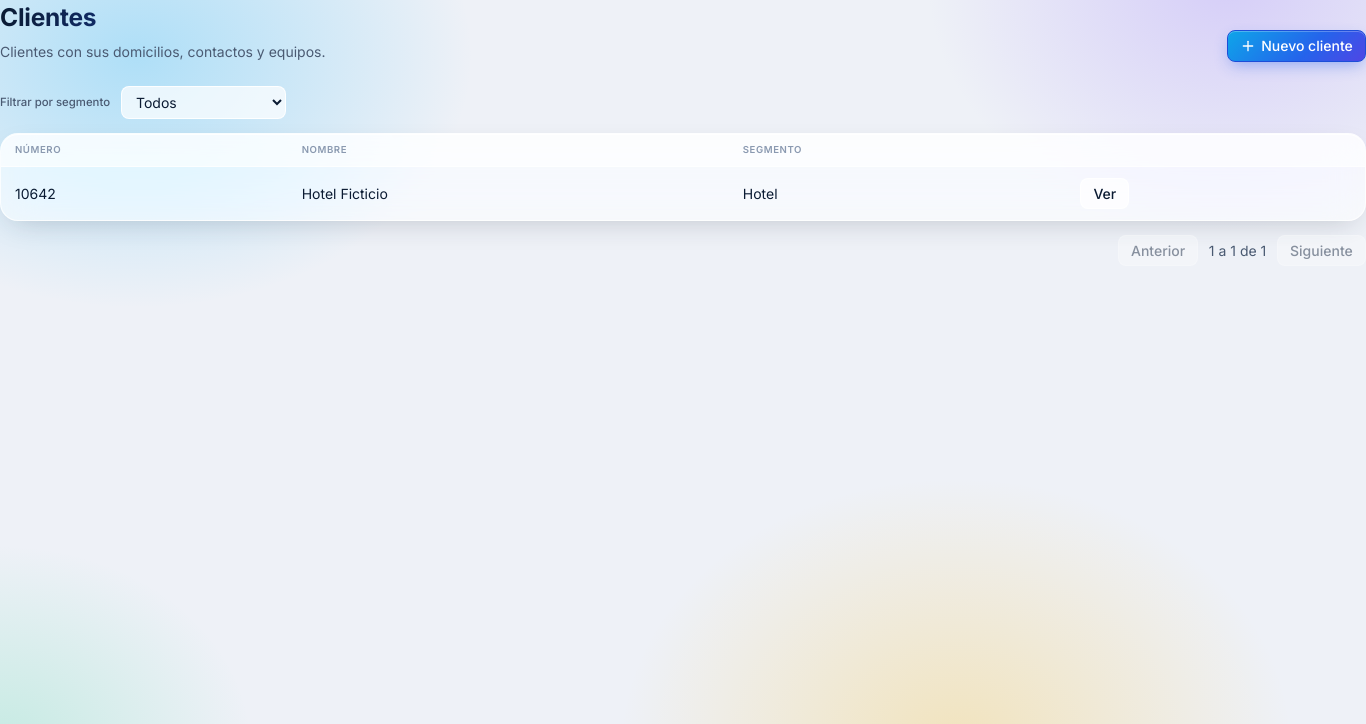
Test: ClientsPage › equipos (E03-03) › lista los equipos del cliente con ubicación, tipo, código y domicilio
Click the button with aria-label "Ver Hotel Ficticio" at (1105,194), box [1080,178,1130,209]
(page scrolled)
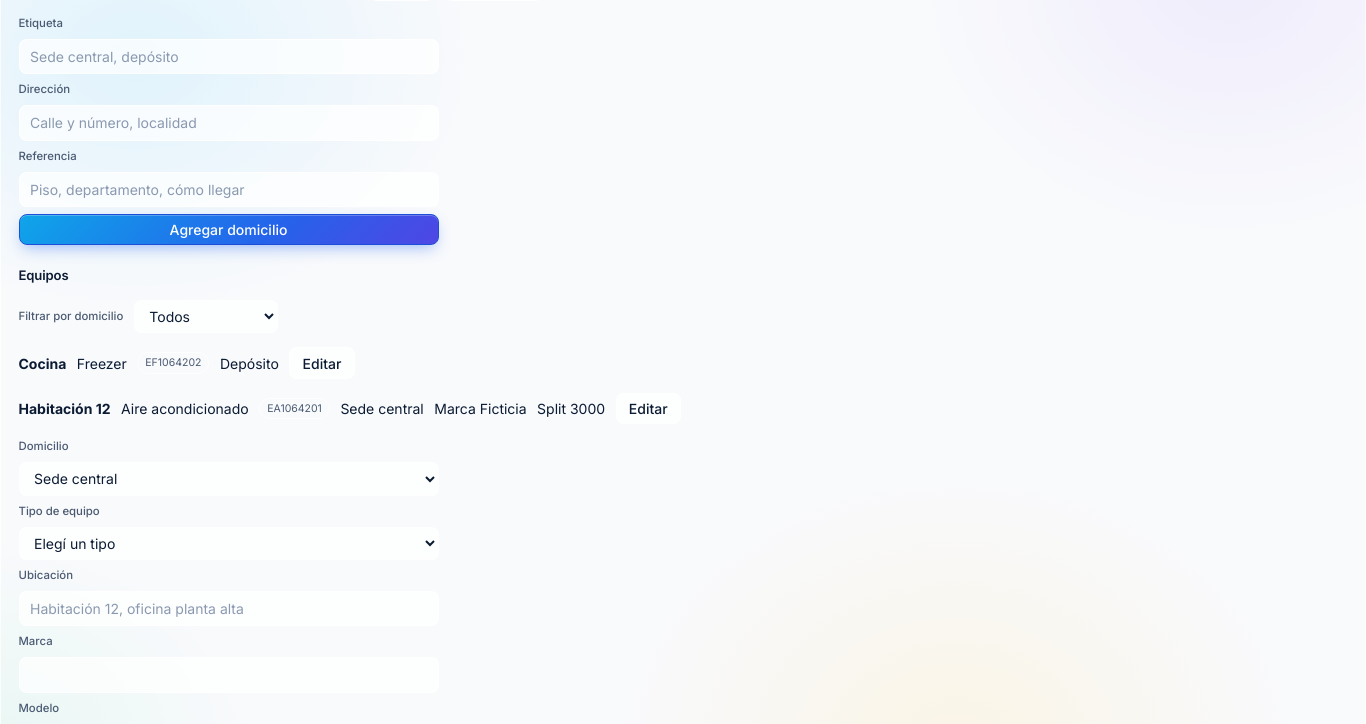
expect the text "Habitación 12" is shown: met, box [18,398,110,419]
expect the text "Aire acondicionado" is shown: met, box [121,398,249,419]
expect the text "Sede central" is shown: met, box [340,398,424,419]
